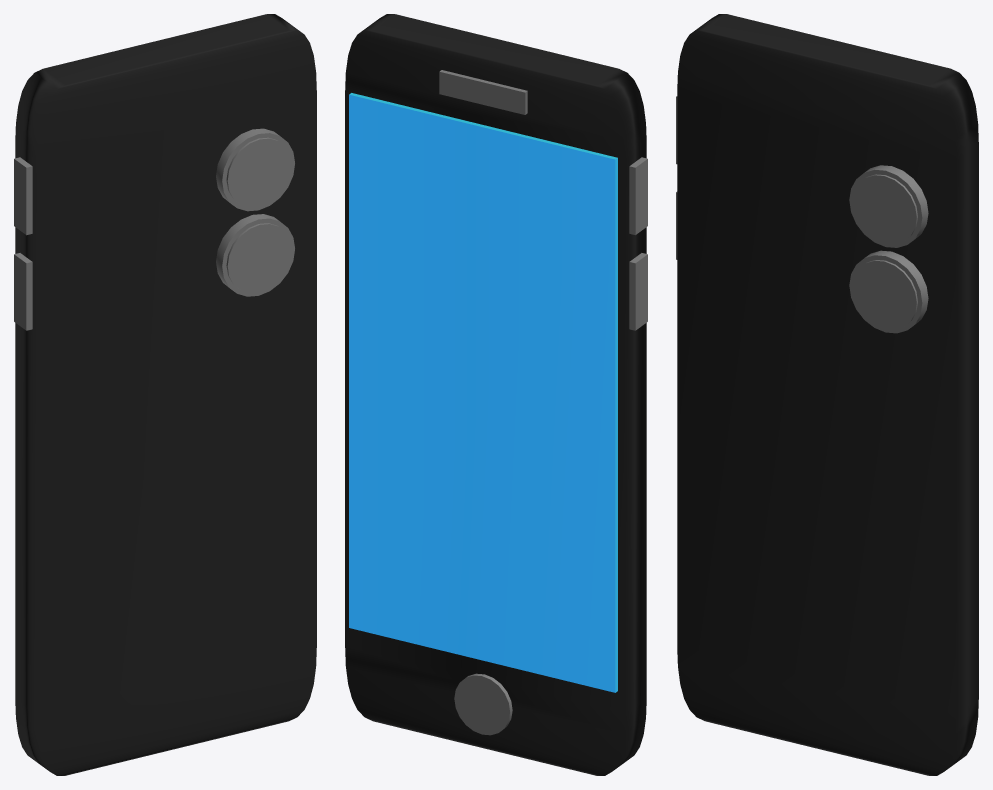
Rendered from phone.glb.
3 renders of one model, left to right at view 1: azimuth 30°, elevation 25°; view 2: azimuth 150°, elevation 25°; view 3: azimuth 330°, elevation 25°, orthographic.
Visible parts, largest first — view 1: Phone, Camera (×4), Volume Up, Volume Down; view 2: Phone, Screen, Bottom Button, Speaker, Volume Up, Volume Down; view 3: Phone, Camera (×4).
Boxes of the visible parts, box(x1,y1,x2,y2) form: Phone: box(15, 14, 316, 775); Camera (×4): box(216, 128, 294, 296); Volume Up: box(14, 157, 32, 235); Volume Down: box(14, 253, 32, 330); Phone: box(345, 14, 646, 775); Screen: box(349, 93, 617, 692); Bottom Button: box(454, 673, 512, 735); Speaker: box(439, 70, 527, 114); Volume Up: box(629, 157, 647, 235); Volume Down: box(629, 253, 647, 330); Phone: box(677, 14, 978, 775); Camera (×4): box(849, 165, 928, 333).
Bounding box in the file's own units: 0.0664 × 0.1536 × 0.0131.
